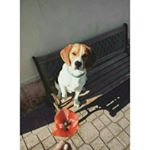puppy: (53, 40, 97, 109)
